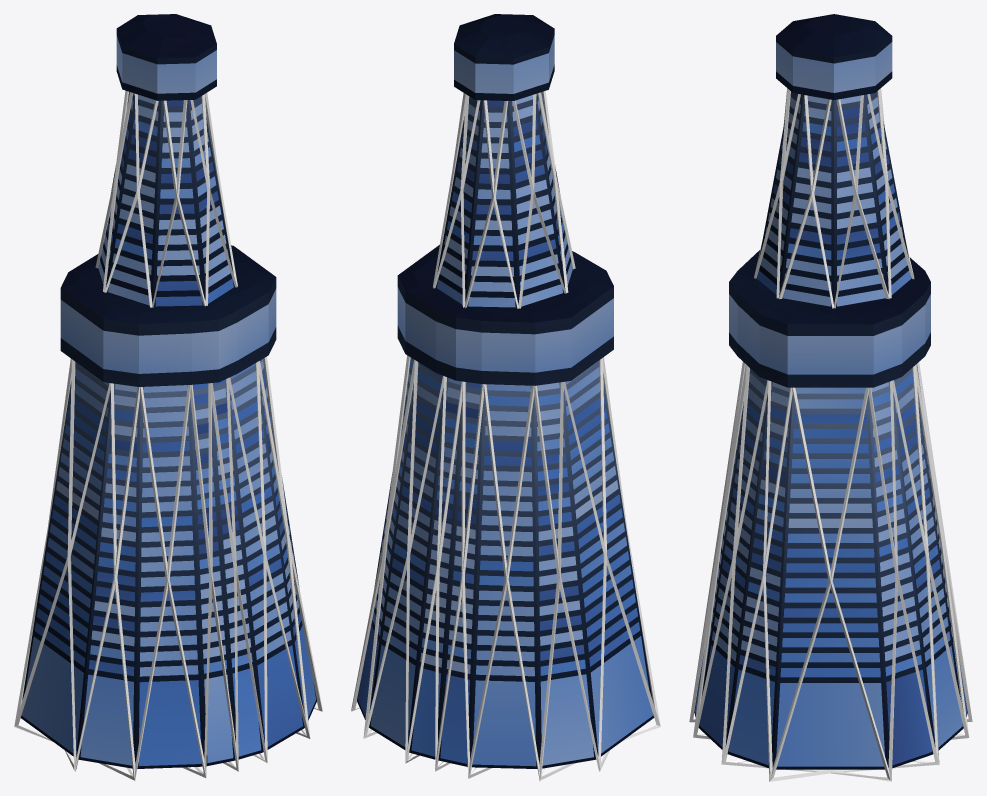
The model's file is MS_Tower.fbx.
3 views of the same model, side by side, from view 1: azimuth 30°, elevation 25°; view 2: azimuth 150°, elevation 25°; view 3: azimuth 270°, elevation 25° (orthographic).
Visible parts, largest first — view 1: Cube.001; view 2: Cube.001; view 3: Cube.001.
Boxes of the visible parts, <box> form: Cube.001: <box>14,14,322,781</box>; Cube.001: <box>351,14,660,781</box>; Cube.001: <box>689,14,972,781</box>.
Bounding box in the file's own units: 37775 × 100849 × 37109.
Materials: 1 (1 with a texture image).
